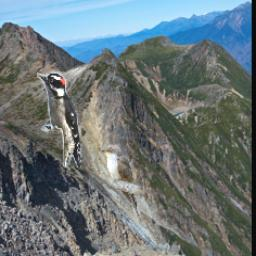Cuckoo: (100, 145, 141, 223)
Woodpecker: (38, 71, 82, 167)
